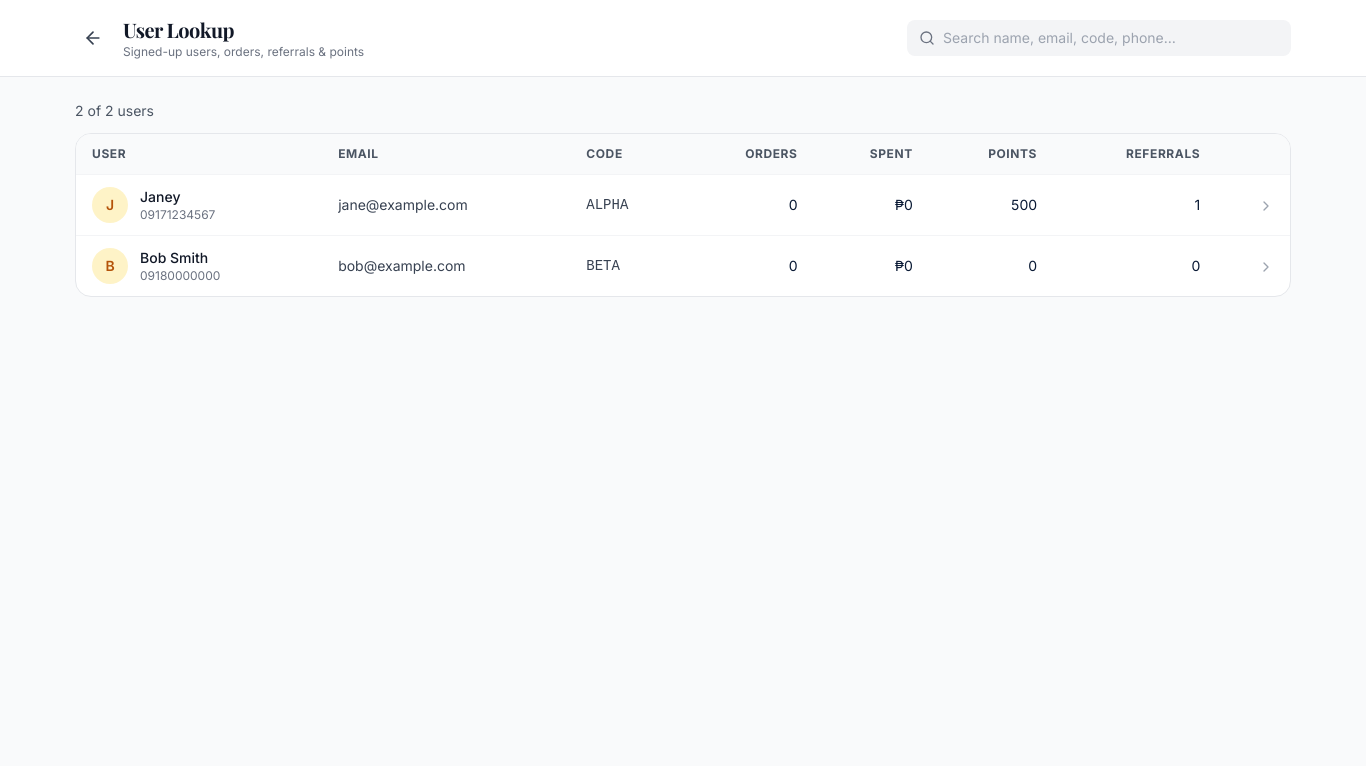
Test: UserLookupManager › opens detail drawer on row click
Click the text "Janey". click: (160, 196)
box: x1=140 y1=188 x2=180 y2=205
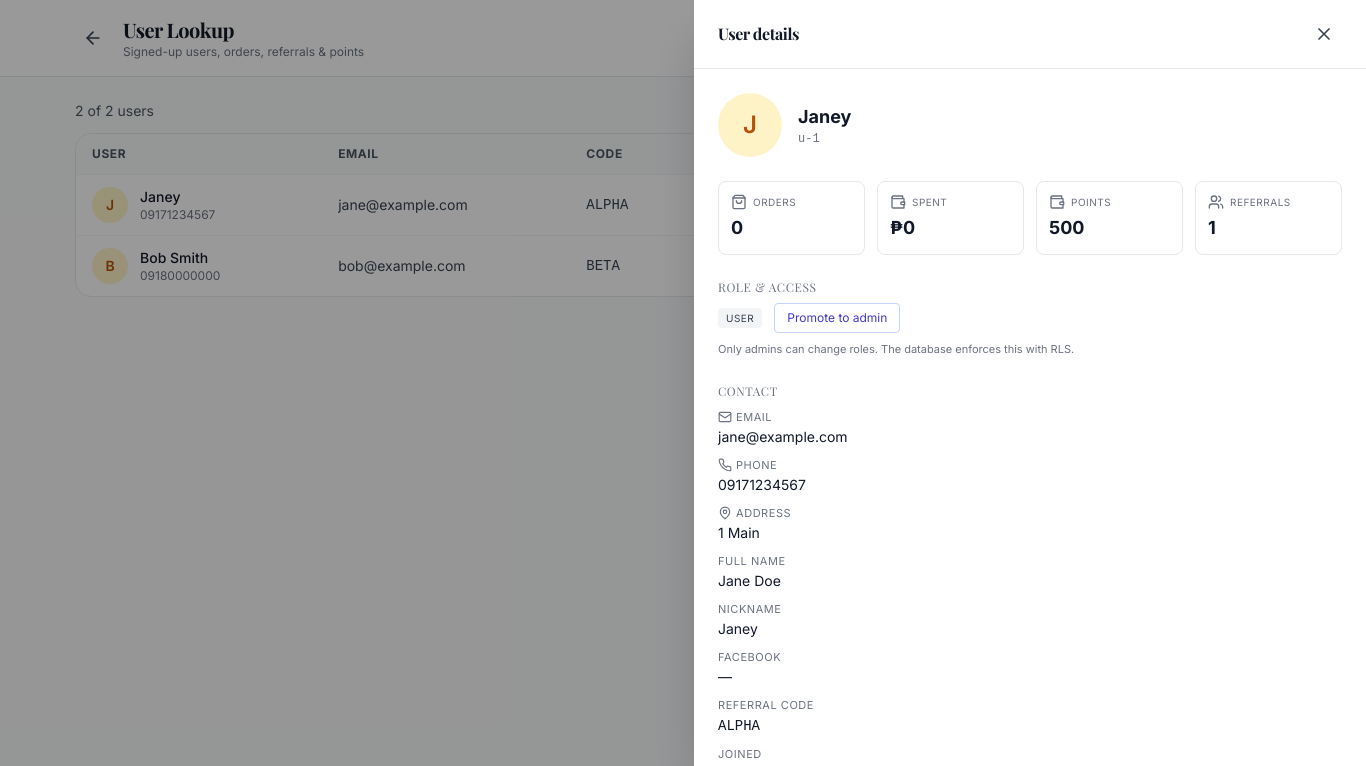
Result: the heading "User details" is shown at x1=718 y1=21 x2=799 y2=47
Result: the heading "Contact" is shown at x1=718 y1=383 x2=778 y2=399
